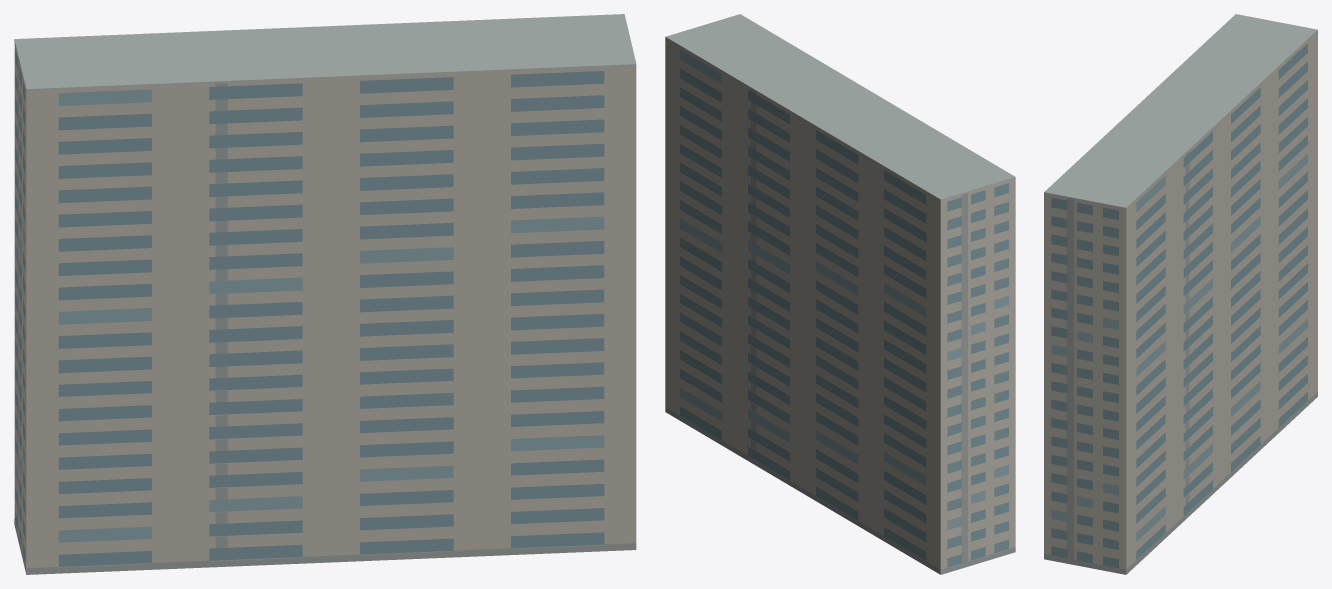
File: residential-8222161d-0db7-4fc6-8b1d-b998d757ba25.glb
3 renders of one model, left to right at view 1: azimuth 30°, elevation 25°; view 2: azimuth 150°, elevation 25°; view 3: azimuth 270°, elevation 25°, orthographic. The views are drawn at different scales.
Visible parts, largest first — view 1: residential-8222161d-0db7-4fc6-8b1d-b998d757ba25.tmp; view 2: residential-8222161d-0db7-4fc6-8b1d-b998d757ba25.tmp; view 3: residential-8222161d-0db7-4fc6-8b1d-b998d757ba25.tmp.
Boxes of the visible parts, box(x1,y1,x2,y2) form: residential-8222161d-0db7-4fc6-8b1d-b998d757ba25.tmp: box(14, 14, 636, 574); residential-8222161d-0db7-4fc6-8b1d-b998d757ba25.tmp: box(665, 14, 1015, 574); residential-8222161d-0db7-4fc6-8b1d-b998d757ba25.tmp: box(1044, 14, 1317, 574).
Bounding box in the file's own units: 61.16 × 54 × 36.52.
